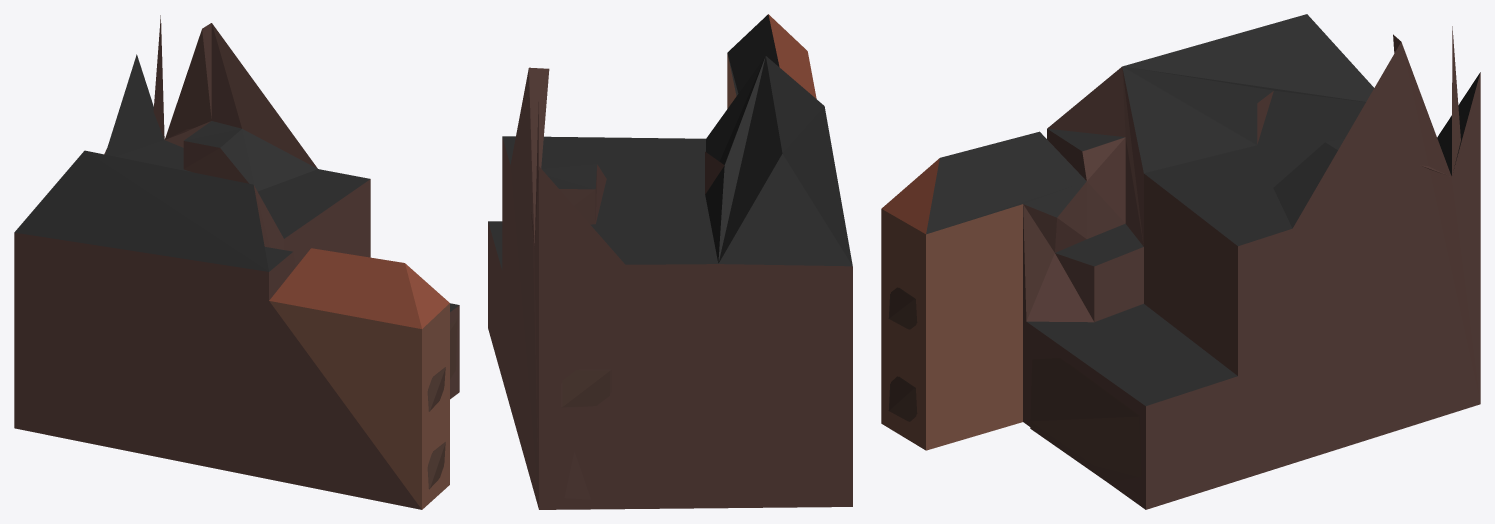
File: de-jaren.lod2.glb
3 views of the same model, side by side, from view 1: azimuth 30°, elevation 25°; view 2: azimuth 150°, elevation 25°; view 3: azimuth 270°, elevation 25° (orthographic). The views are drawn at different scales.
Parts seen in each view (by area): view 1: lod2; view 2: lod2; view 3: lod2.
Boxes of the visible parts, bbox=[...] form: lod2: bbox=[14, 15, 459, 509]; lod2: bbox=[488, 14, 852, 509]; lod2: bbox=[881, 14, 1480, 509].
Size of the model in its own units: 29.07 by 24.37 by 34.19.
